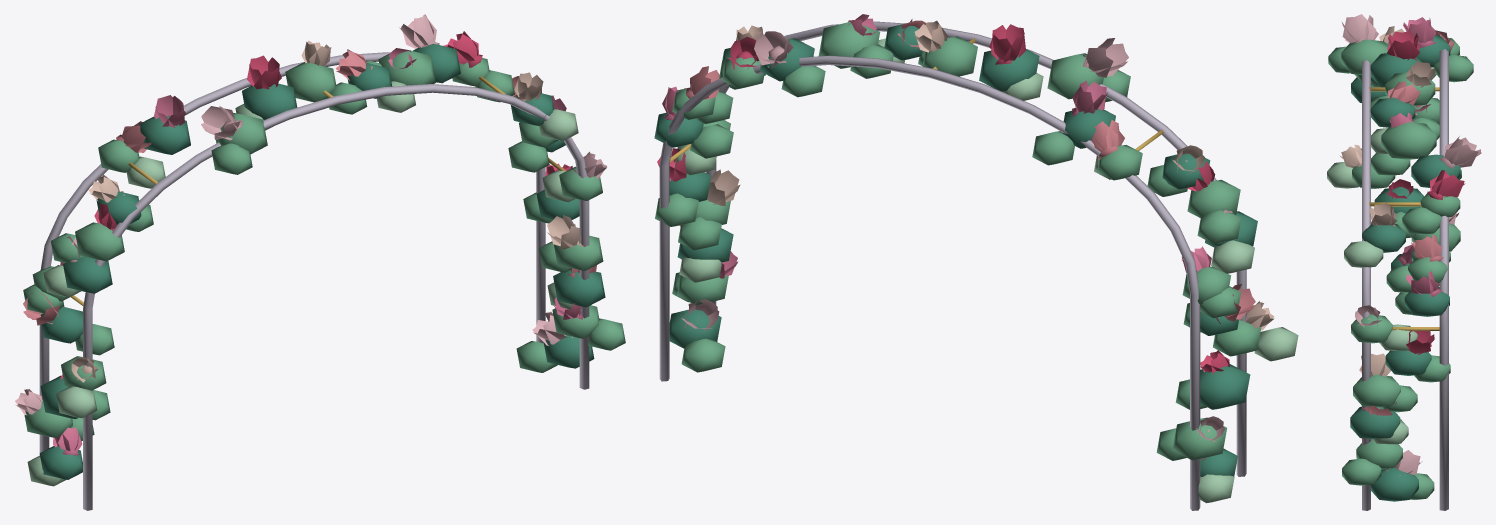
File: rose_tunnel_arch.glb
The picture shows the model from 3 angles, left to right: view 1: azimuth 30°, elevation 25°; view 2: azimuth 150°, elevation 25°; view 3: azimuth 270°, elevation 25°; orthographic projection. The views are drawn at different scales.
Parts seen in each view (by area): view 1: rose_tunnel_arch; view 2: rose_tunnel_arch; view 3: rose_tunnel_arch.
Boxes of the visible parts, x1,y1,x2,y2 form: rose_tunnel_arch: [15, 14, 625, 510]; rose_tunnel_arch: [654, 14, 1298, 510]; rose_tunnel_arch: [1327, 14, 1481, 510].
Size of what is drawn, in the model's own units: 6.49 by 4.16 by 1.7.
